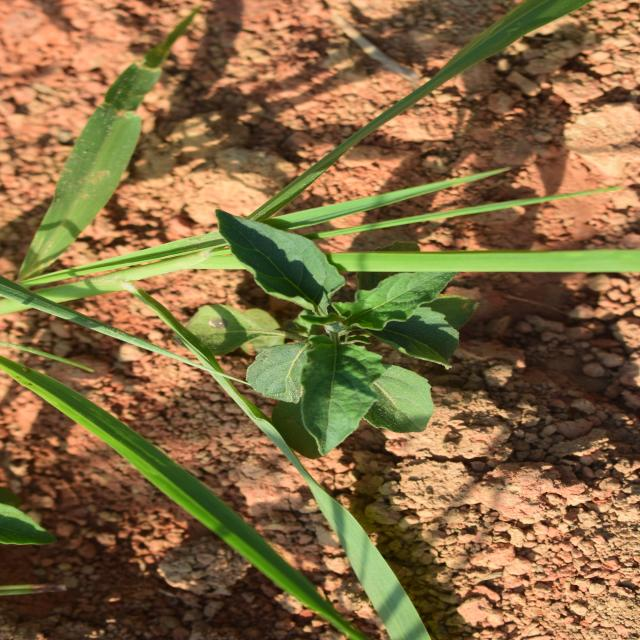Black_nightshade: (210, 231, 384, 493)
